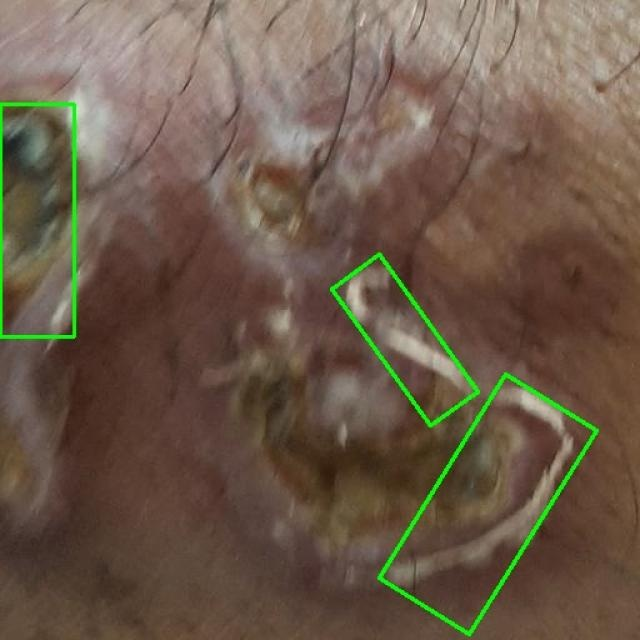Contact Dermatitis: (379, 375, 597, 635), (332, 254, 478, 426), (0, 104, 74, 336)
